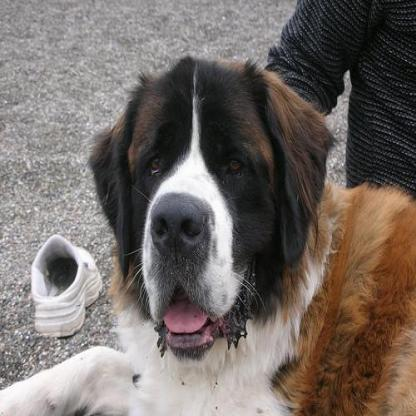Saint_Bernard: (0, 51, 414, 414)
